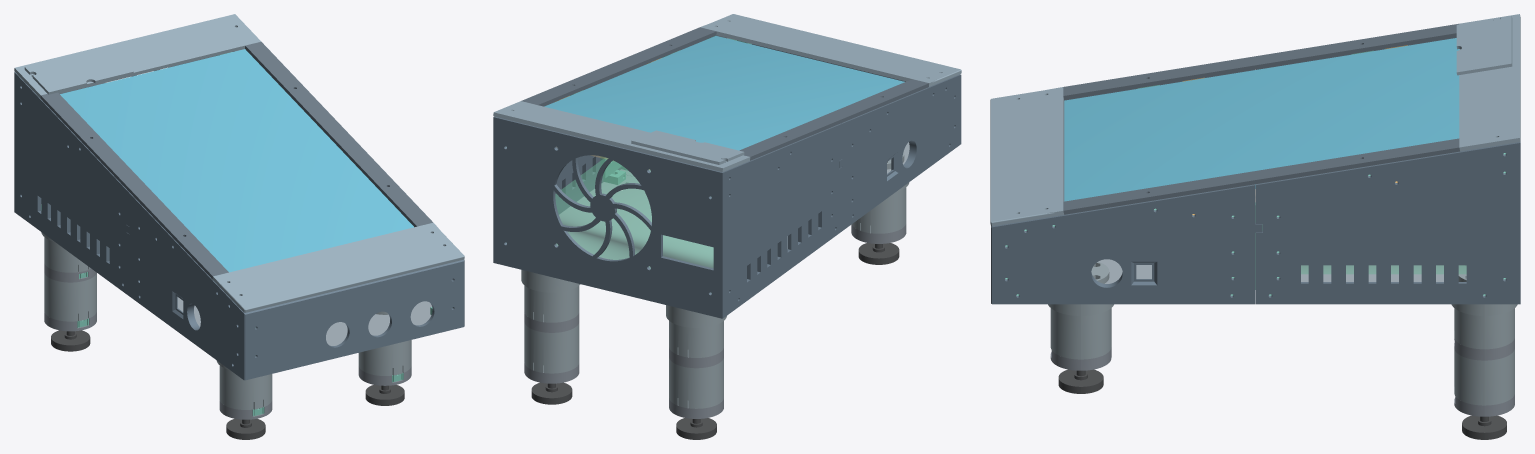
File: cabinet-v1_19-socket.glb
3 renders of one model, left to right at view 1: azimuth 30°, elevation 25°; view 2: azimuth 150°, elevation 25°; view 3: azimuth 270°, elevation 25°, orthographic. The views are drawn at different scales.
Visible parts, largest first — view 1: REFERENCE_Monitor, left_rear_wall, front_button_panel, left_front_wall, front_cable_lid, rear_control_deck, bezel_right_a1_a2, bezel_left_one_piece, control_hatch, foot_m8_terminal_sleeve_left_rear_55mm, foot_m8_terminal_sleeve_left_front_55mm, foot_m8_terminal_sleeve_right_front_55mm (+9 smaller); view 2: rear_vent_panel, REFERENCE_Monitor, left_rear_wall, left_front_wall, front_cable_lid, REFERENCE_Dell_3050, bottom_rear, rear_control_deck, bezel_right_a1_a2, bezel_left_one_piece, foot_m8_terminal_sleeve_right_rear_55mm, foot_m8_terminal_sleeve_left_rear_55mm (+15 smaller); view 3: REFERENCE_Monitor, right_rear_wall, right_front_wall, front_cable_lid, bezel_right_a1_a2, bezel_left_one_piece, rear_control_deck, control_hatch, foot_m8_terminal_sleeve_right_rear_55mm, foot_m8_terminal_sleeve_right_front_55mm, foot_lock_sleeve_right_rear_1_45mm, bottom_rear (+9 smaller).
Boxes of the visible parts, <box> form: REFERENCE_Monitor: <box>60,49,413,272</box>; left_rear_wall: <box>14,72,129,295</box>; front_button_panel: <box>247,260,461,379</box>; left_front_wall: <box>126,193,247,380</box>; front_cable_lid: <box>212,222,464,312</box>; rear_control_deck: <box>14,14,260,98</box>; bezel_right_a1_a2: <box>245,41,432,227</box>; bezel_left_one_piece: <box>40,92,228,279</box>; control_hatch: <box>24,46,133,94</box>; foot_m8_terminal_sleeve_left_rear_55mm: <box>44,273,96,321</box>; foot_m8_terminal_sleeve_left_front_55mm: <box>219,365,272,409</box>; foot_m8_terminal_sleeve_right_front_55mm: <box>358,340,411,375</box>; rear_vent_panel: <box>496,117,719,317</box>; REFERENCE_Monitor: <box>544,36,904,150</box>; left_rear_wall: <box>719,123,842,318</box>; left_front_wall: <box>839,74,961,230</box>; front_cable_lid: <box>700,14,961,86</box>; REFERENCE_Dell_3050: <box>555,157,713,268</box>; bottom_rear: <box>559,175,787,268</box>; rear_control_deck: <box>493,101,750,171</box>; bezel_right_a1_a2: <box>521,27,716,106</box>; bezel_left_one_piece: <box>739,79,929,160</box>; foot_m8_terminal_sleeve_right_rear_55mm: <box>524,322,579,373</box>; foot_m8_terminal_sleeve_left_rear_55mm: <box>669,358,723,408</box>; REFERENCE_Monitor: <box>1064,38,1459,201</box>; right_rear_wall: <box>1256,142,1520,304</box>; right_front_wall: <box>991,184,1262,304</box>; front_cable_lid: <box>990,87,1064,226</box>; bezel_right_a1_a2: <box>1063,138,1459,214</box>; bezel_left_one_piece: <box>1063,23,1458,99</box>; rear_control_deck: <box>1459,14,1520,151</box>; control_hatch: <box>1456,16,1512,75</box>; foot_m8_terminal_sleeve_right_rear_55mm: <box>1454,349,1514,405</box>; foot_m8_terminal_sleeve_right_front_55mm: <box>1050,308,1111,359</box>; foot_lock_sleeve_right_rear_1_45mm: <box>1454,308,1514,349</box>; bottom_rear: <box>1301,265,1459,281</box>.
Size of the model in its own units: 0.26 by 0.3106 by 0.4705.
